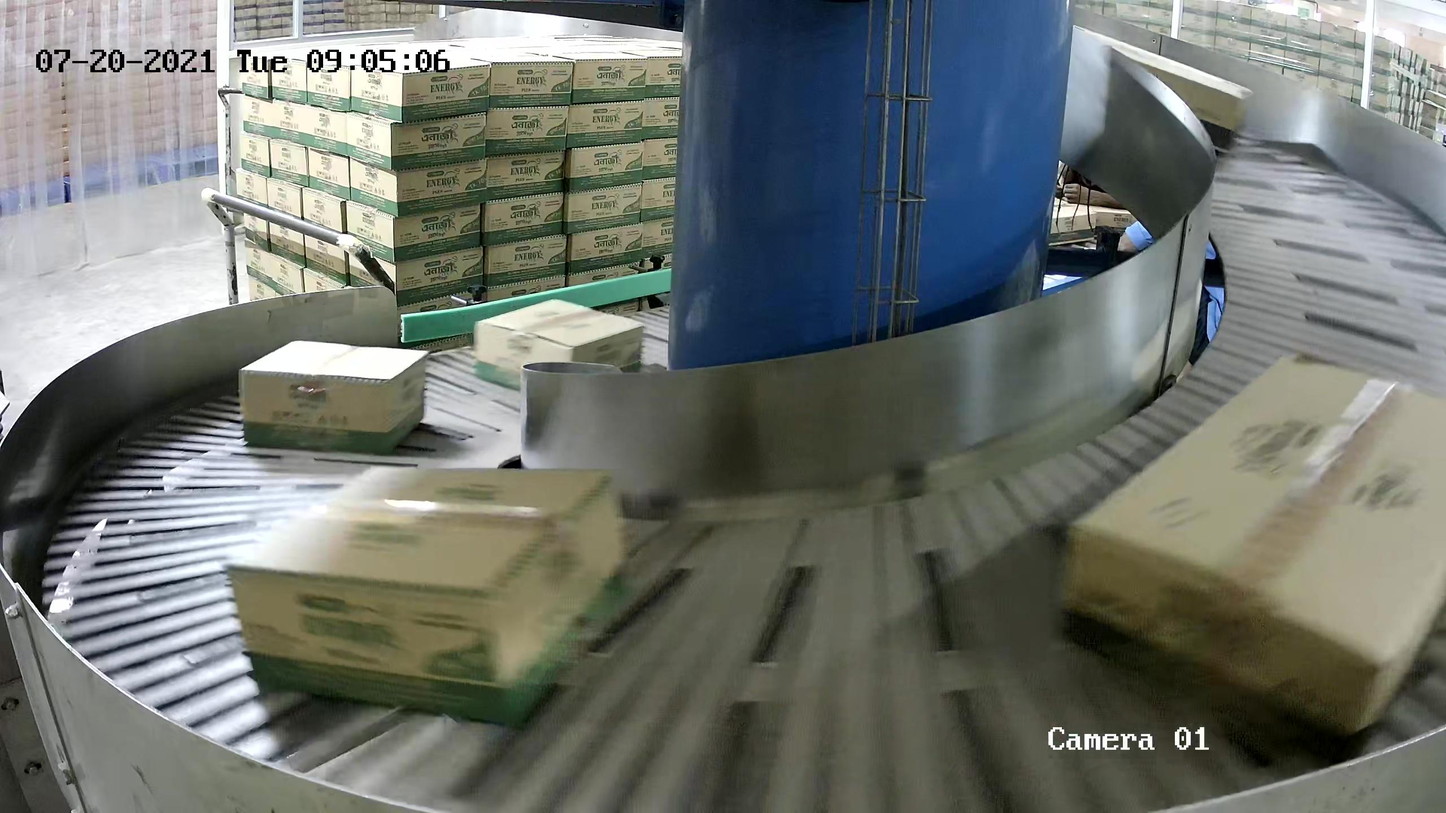Box: (1054, 343, 1446, 777), (224, 465, 638, 733), (1044, 22, 1256, 157), (237, 339, 429, 457), (473, 297, 645, 405)
